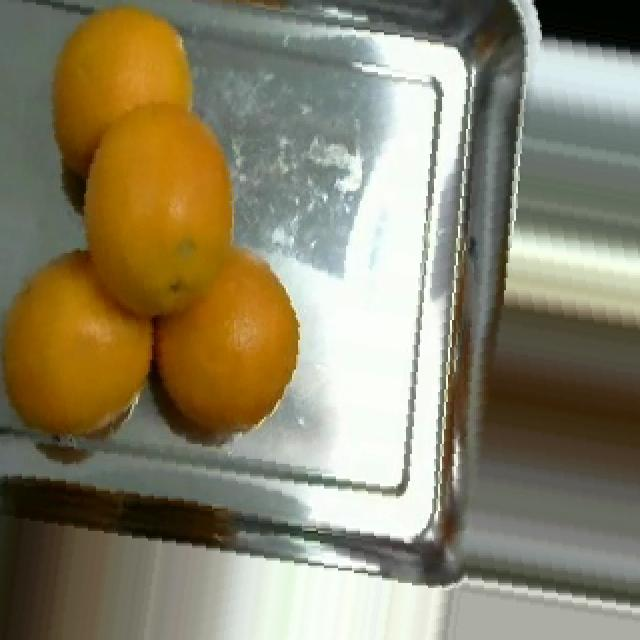Fruit: (520, 0, 640, 67)
